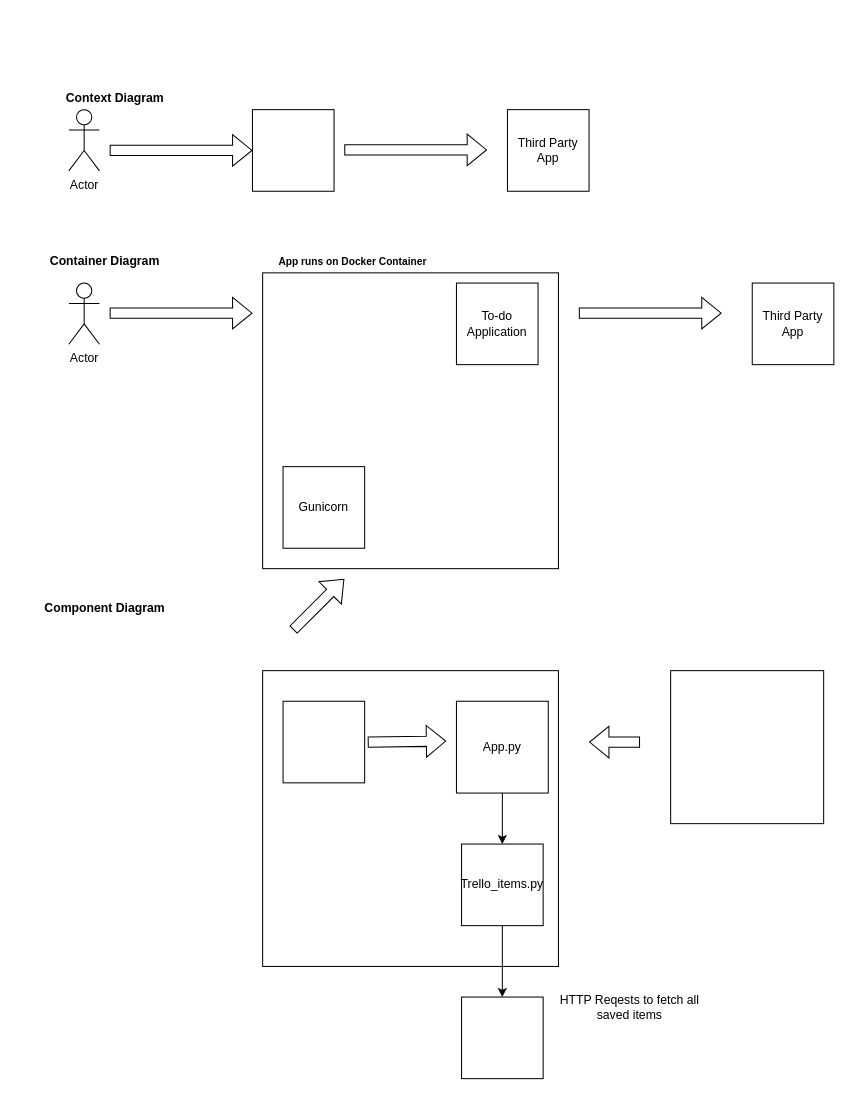
Image size: 852x1097. Some labels were removed from this diagram. Each missing label, with the box of its shape:
Gunicron: (670, 670, 824, 824)
Templates: (282, 700, 365, 783)
To Do App: (251, 109, 334, 191)
Trello (third party pas): (461, 996, 543, 1079)
